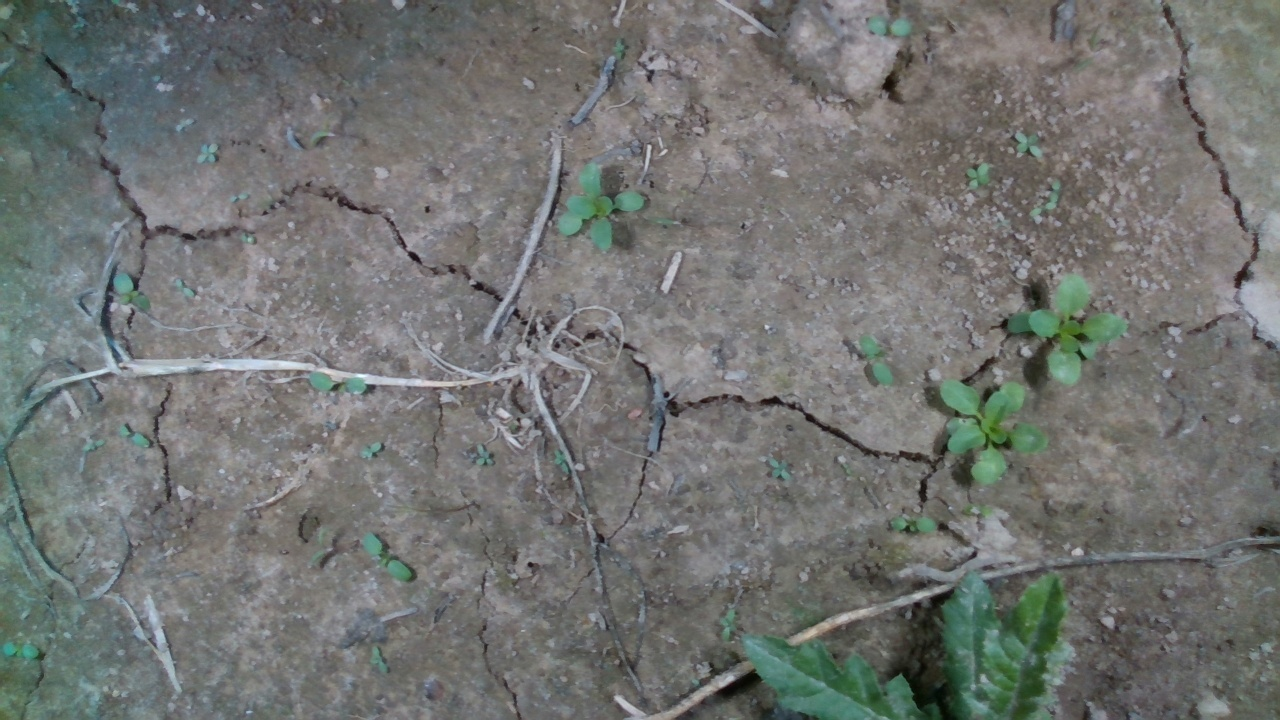weed: (851, 328, 897, 394), (165, 268, 214, 314), (955, 154, 994, 200), (890, 506, 935, 545), (302, 372, 371, 396), (1014, 122, 1045, 168), (763, 451, 800, 488), (193, 135, 220, 171), (973, 491, 999, 524)
